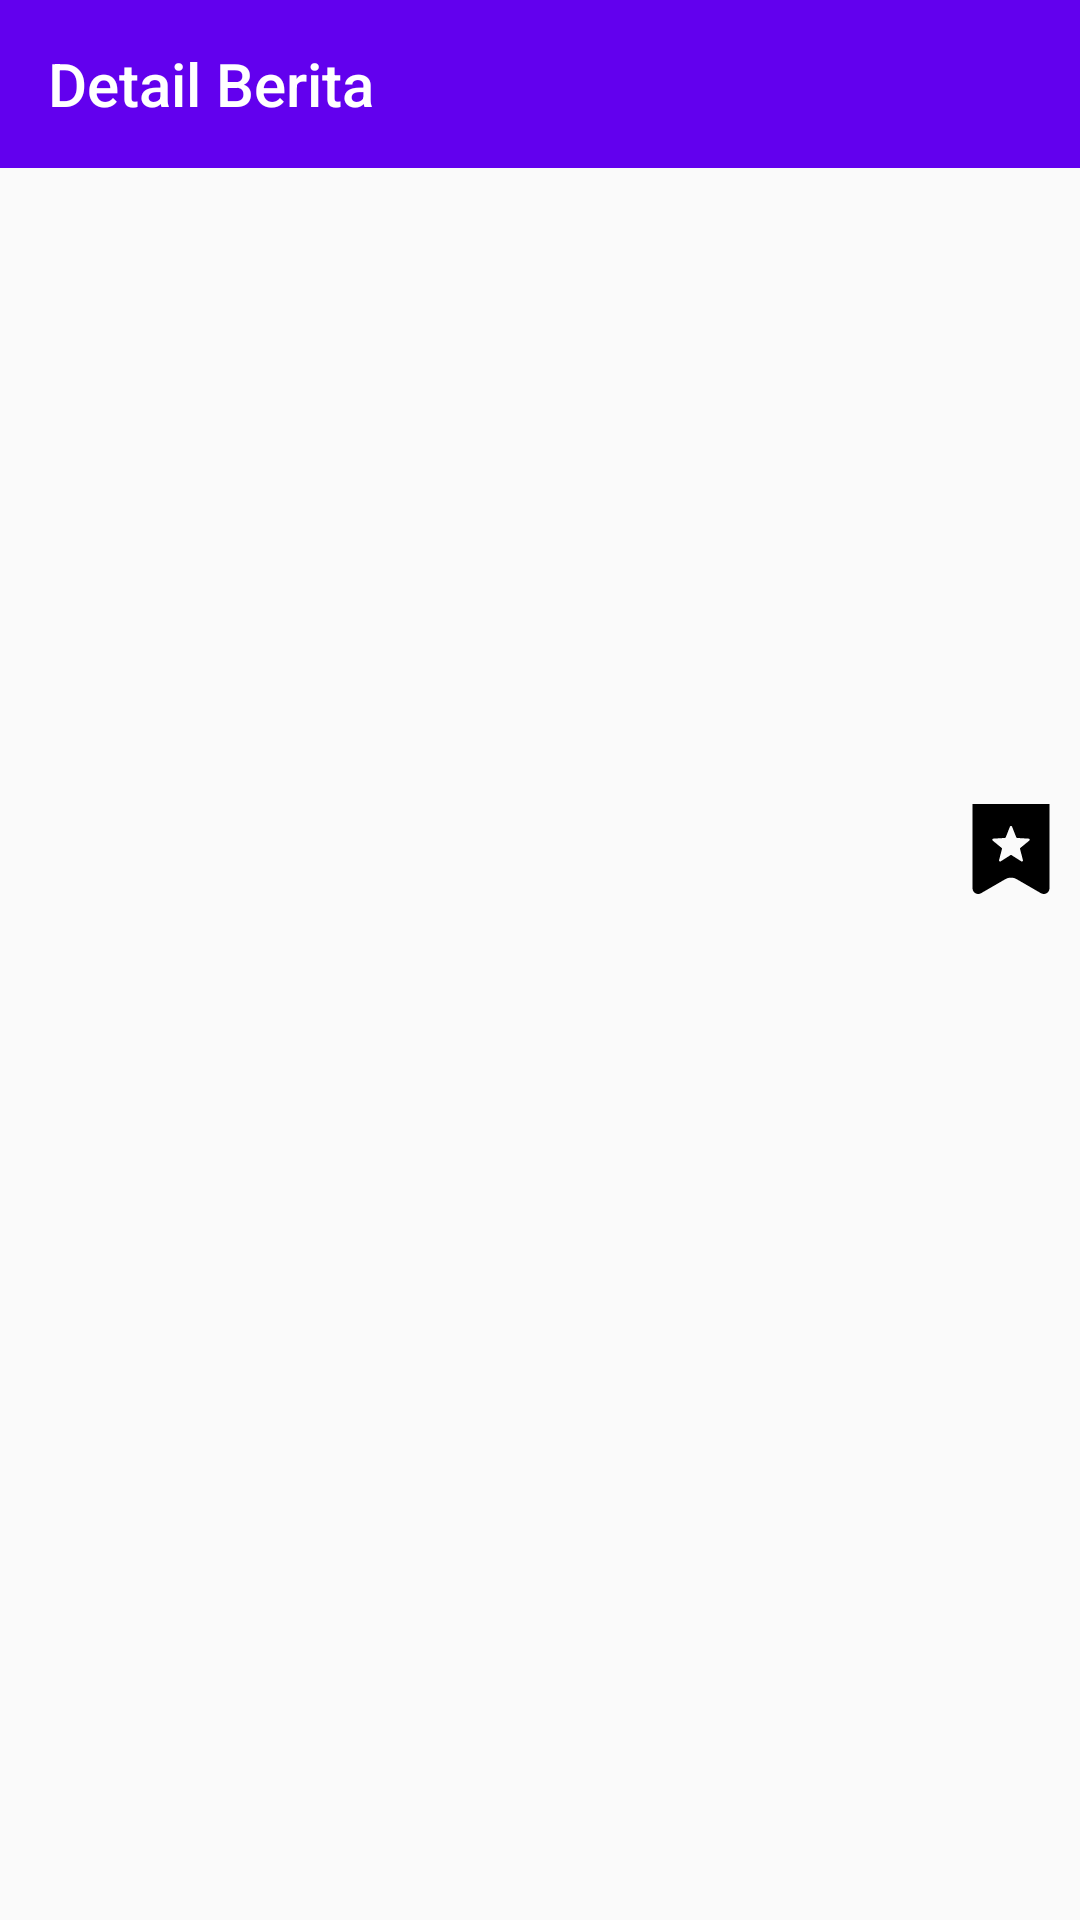

Icons on this 1080 x 1920 Android screen, each with its box as Rect(x1, y1, x2, y2):
bookmark: Rect(972, 804, 1050, 894)
